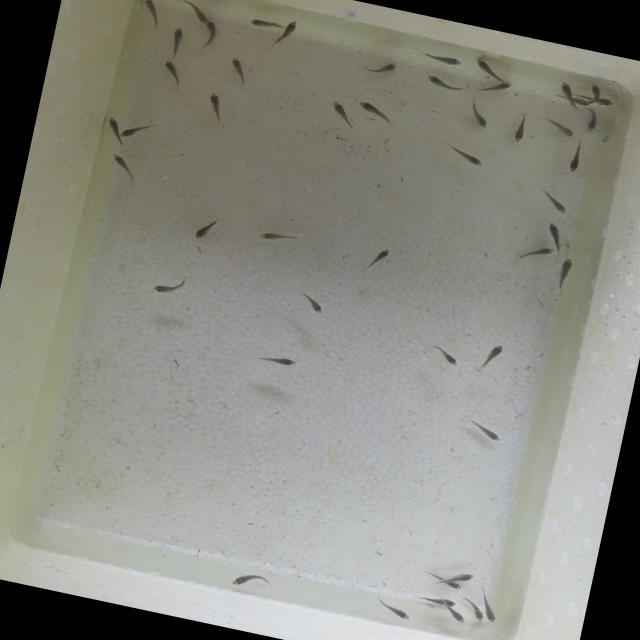fingerling: (420, 46, 465, 70), (479, 330, 505, 371), (561, 146, 593, 178), (504, 115, 537, 146), (474, 54, 511, 80), (255, 226, 293, 251), (538, 186, 572, 212), (544, 114, 575, 142), (108, 152, 140, 178), (468, 418, 504, 441), (122, 118, 156, 142), (157, 272, 190, 296), (465, 100, 492, 128), (226, 56, 252, 85), (330, 101, 360, 126), (270, 20, 296, 48), (420, 592, 458, 611), (188, 2, 218, 26), (478, 76, 512, 97), (163, 28, 186, 58), (432, 573, 466, 593), (361, 99, 395, 118), (372, 58, 402, 79), (421, 72, 456, 90), (200, 19, 220, 50), (300, 288, 328, 310), (259, 351, 295, 368), (232, 570, 262, 590), (366, 246, 391, 270), (160, 56, 184, 81), (462, 596, 487, 620), (206, 91, 228, 118), (195, 216, 219, 240), (140, 0, 165, 23), (546, 222, 568, 248), (517, 242, 547, 261), (480, 603, 502, 628), (432, 346, 460, 364), (444, 605, 468, 626), (453, 146, 484, 162), (379, 603, 410, 619), (246, 13, 272, 32), (558, 78, 580, 100), (452, 566, 477, 584), (584, 109, 602, 132), (558, 256, 574, 281), (594, 96, 615, 114), (104, 114, 120, 137), (584, 84, 602, 100)
